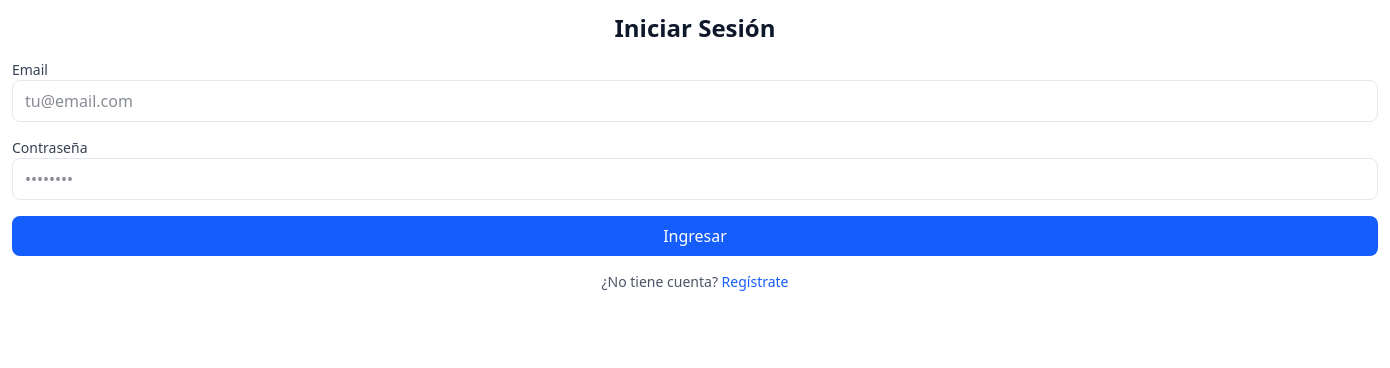
Scenario: LoginForm › shows error when submitting empty form
Click the button "Ingresar": [695, 236] box x1=12 y1=216 x2=1378 y2=256
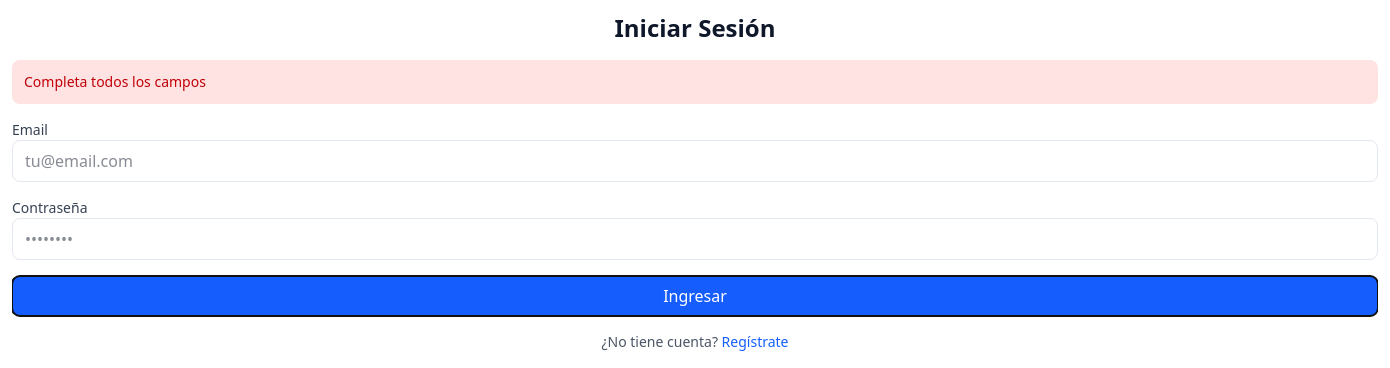
Expected: the text "Completa todos los campos" is shown, x1=12 y1=60 x2=1378 y2=104
